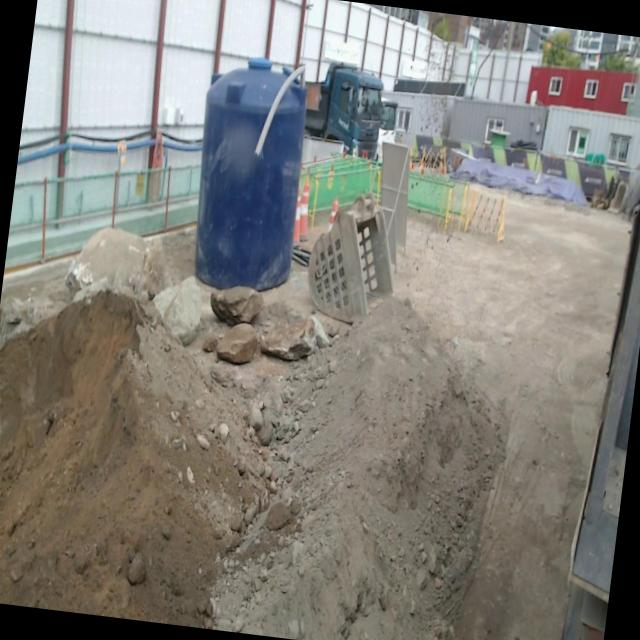red-sand: (0, 291, 240, 628)
stone: (66, 227, 169, 296), (152, 276, 201, 344), (215, 322, 260, 364)
white-sand: (136, 302, 503, 640)
